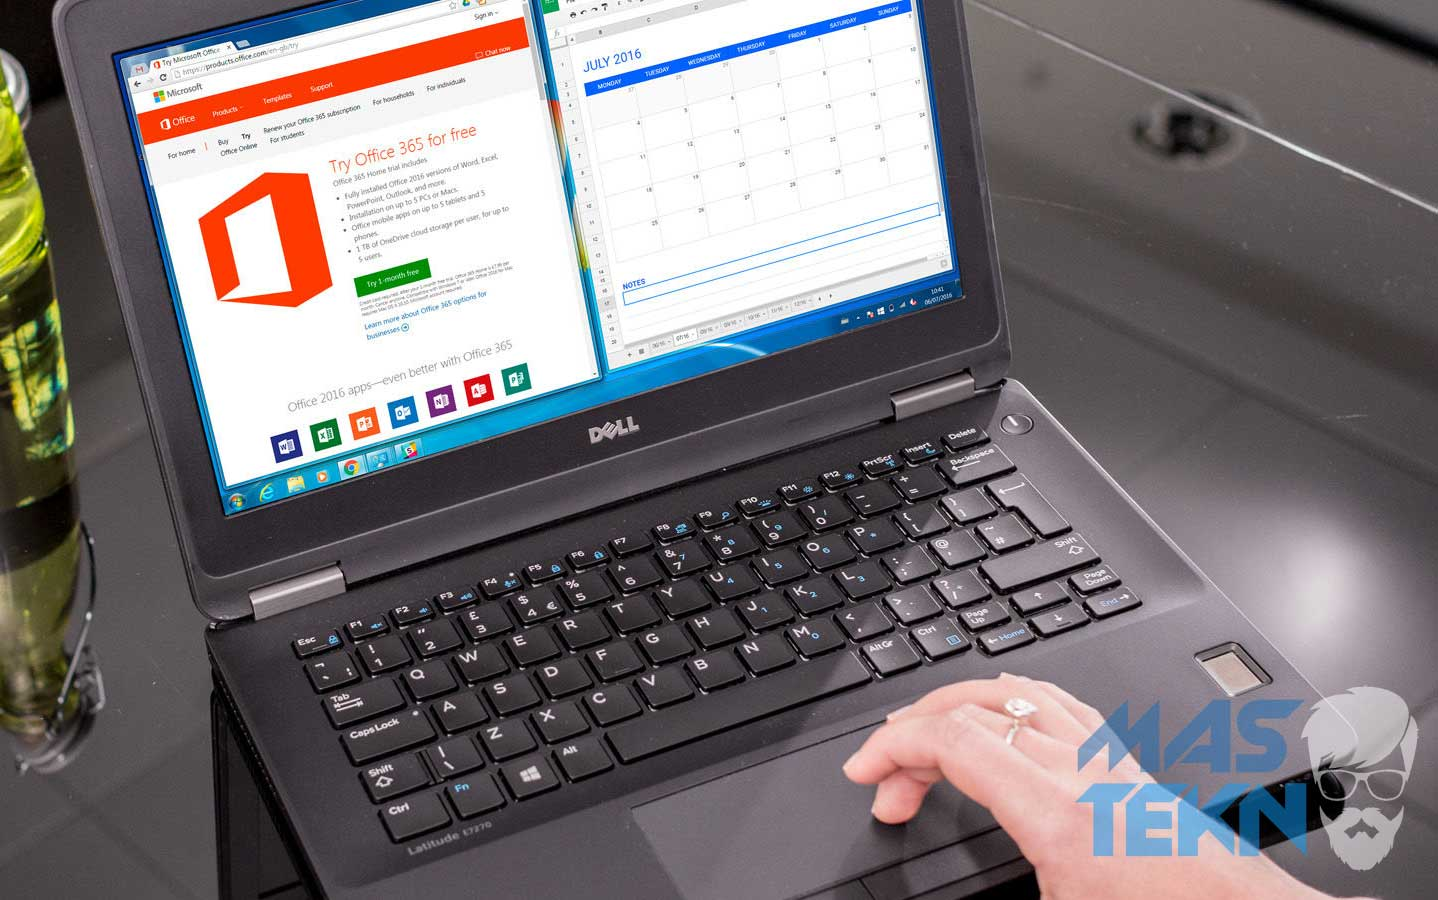Laptop: (36, 1, 1387, 900)
